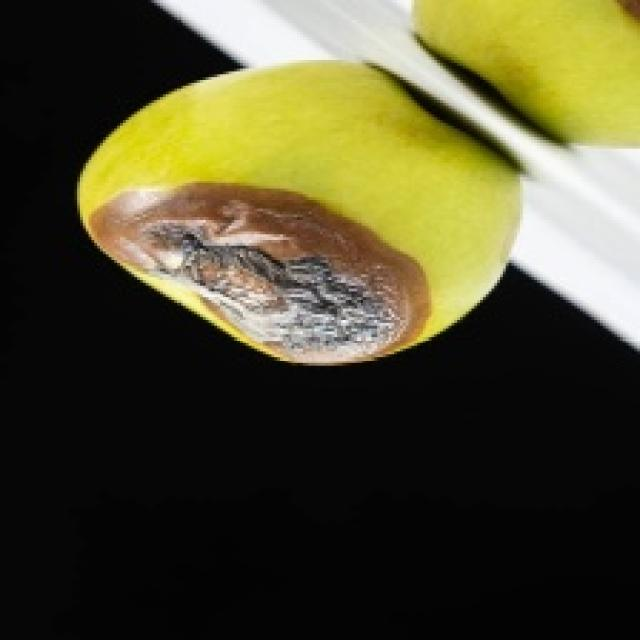rotten_apple: (82, 67, 522, 365)
